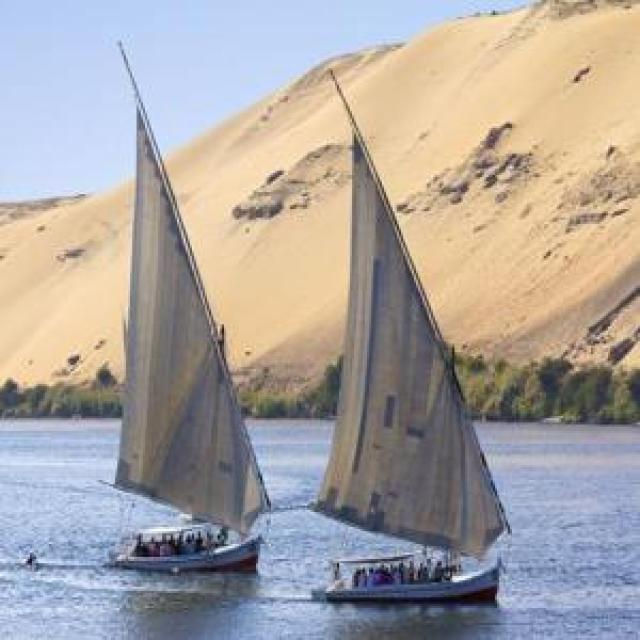sailboat: (313, 61, 501, 603), (92, 38, 261, 571)
